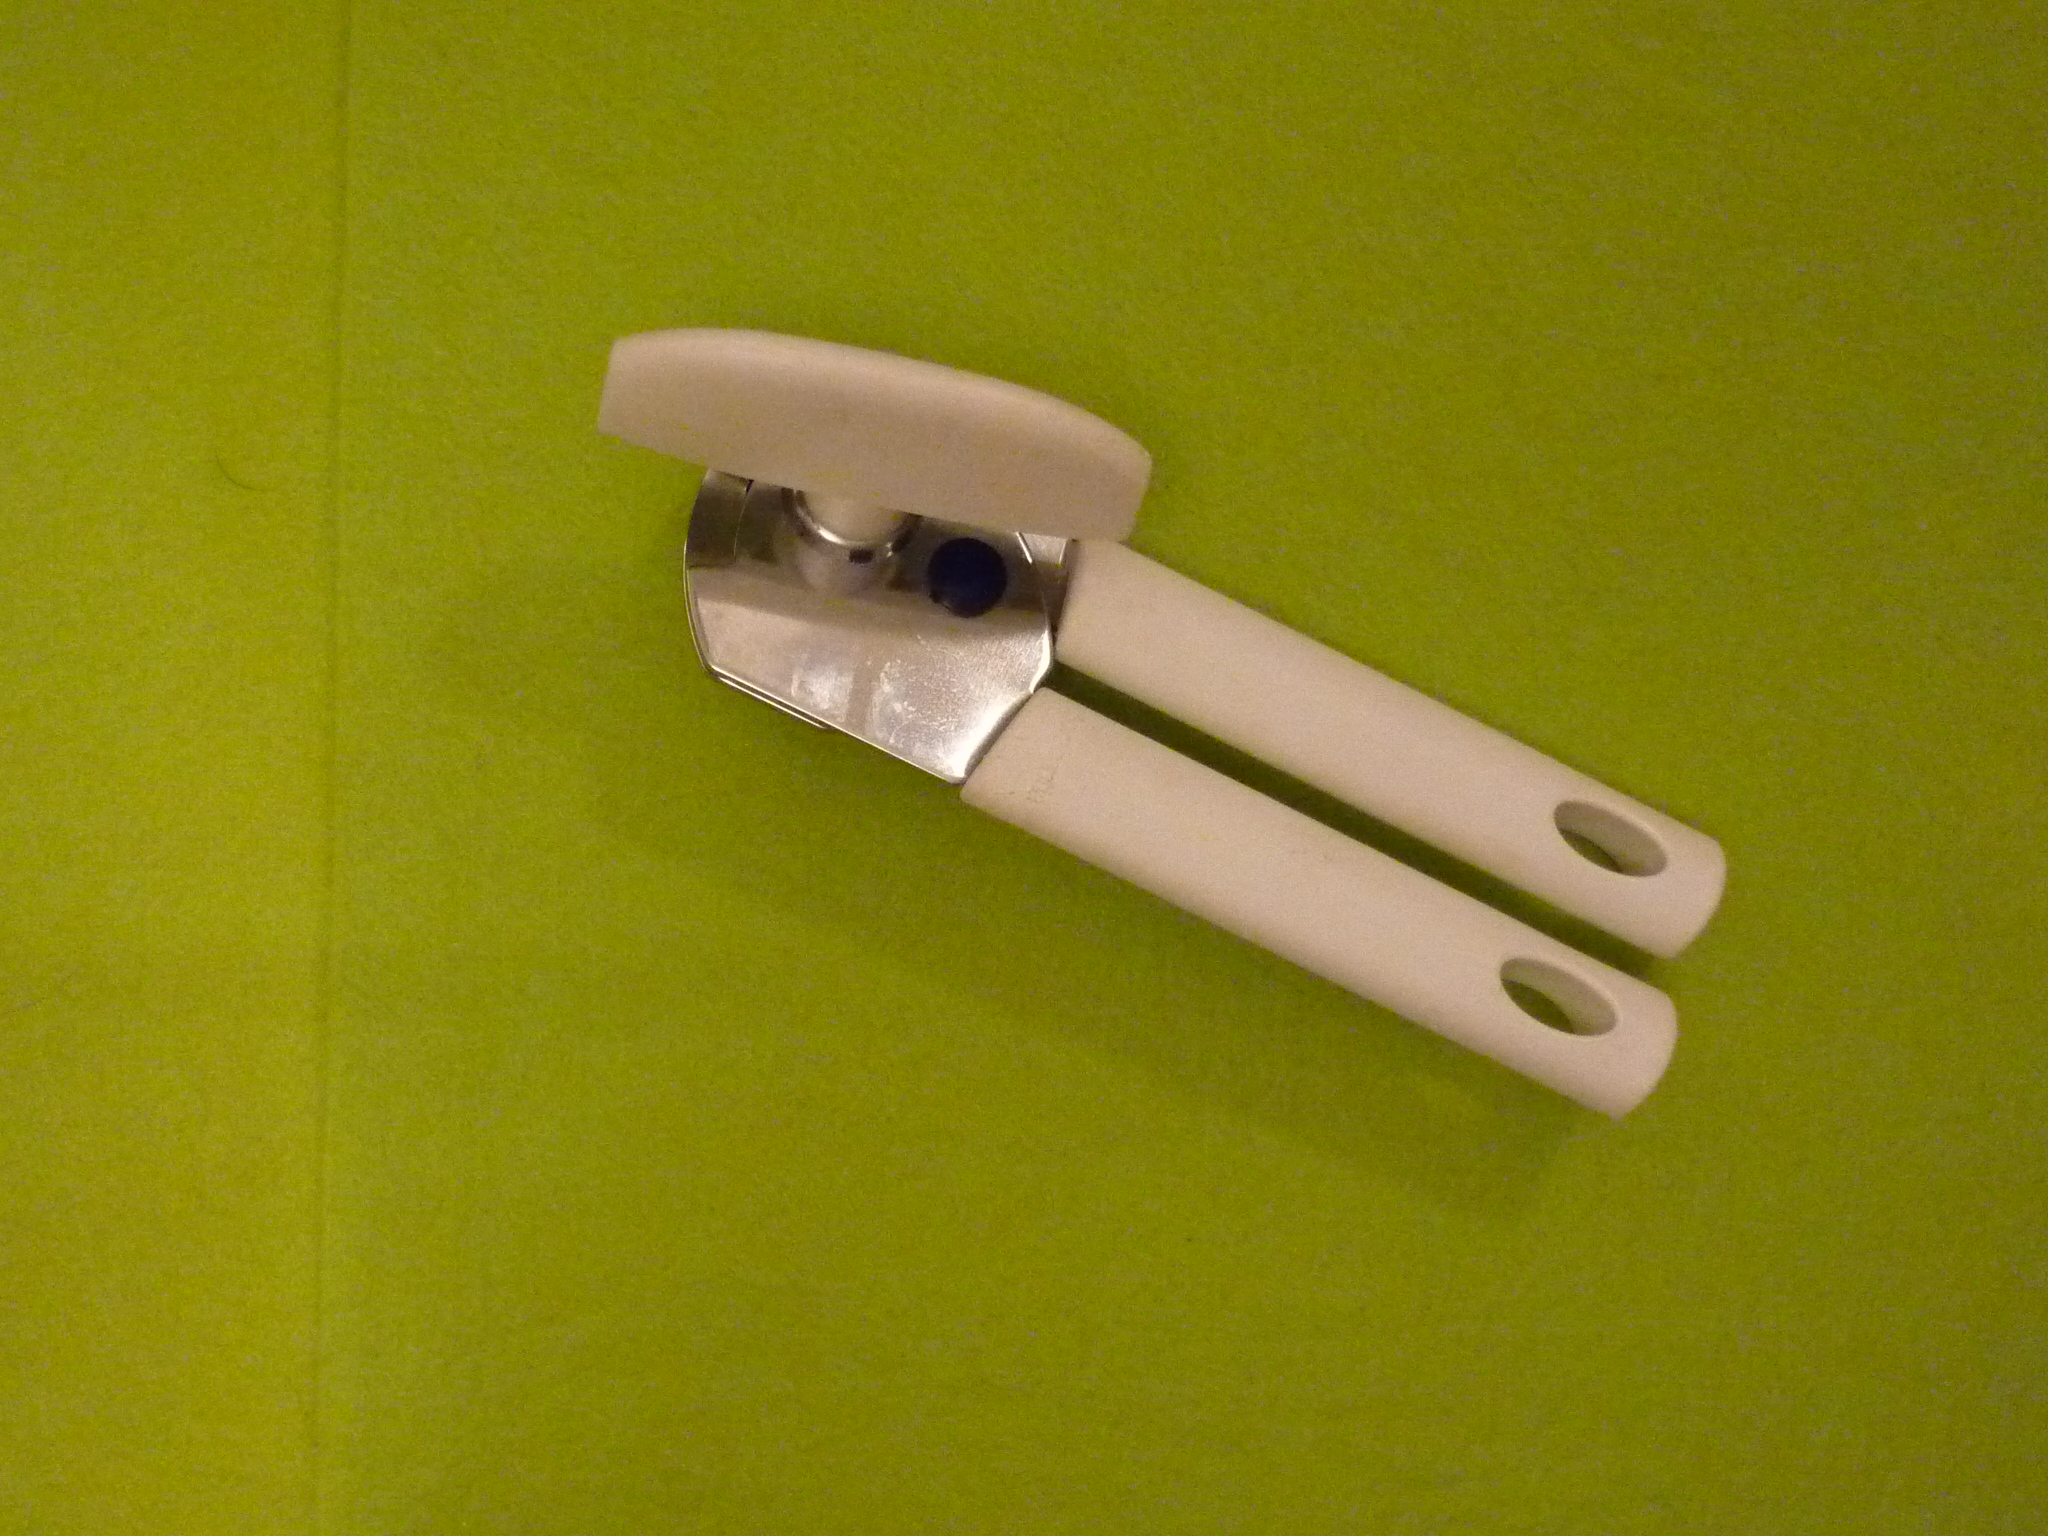bottleopener: (593, 324, 1730, 1121)
